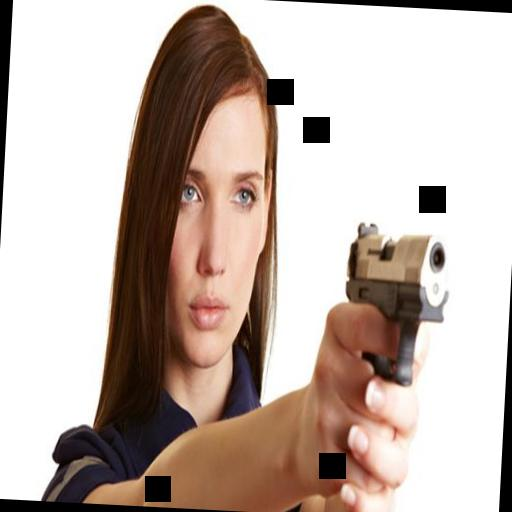Handgun: (340, 219, 452, 387)
